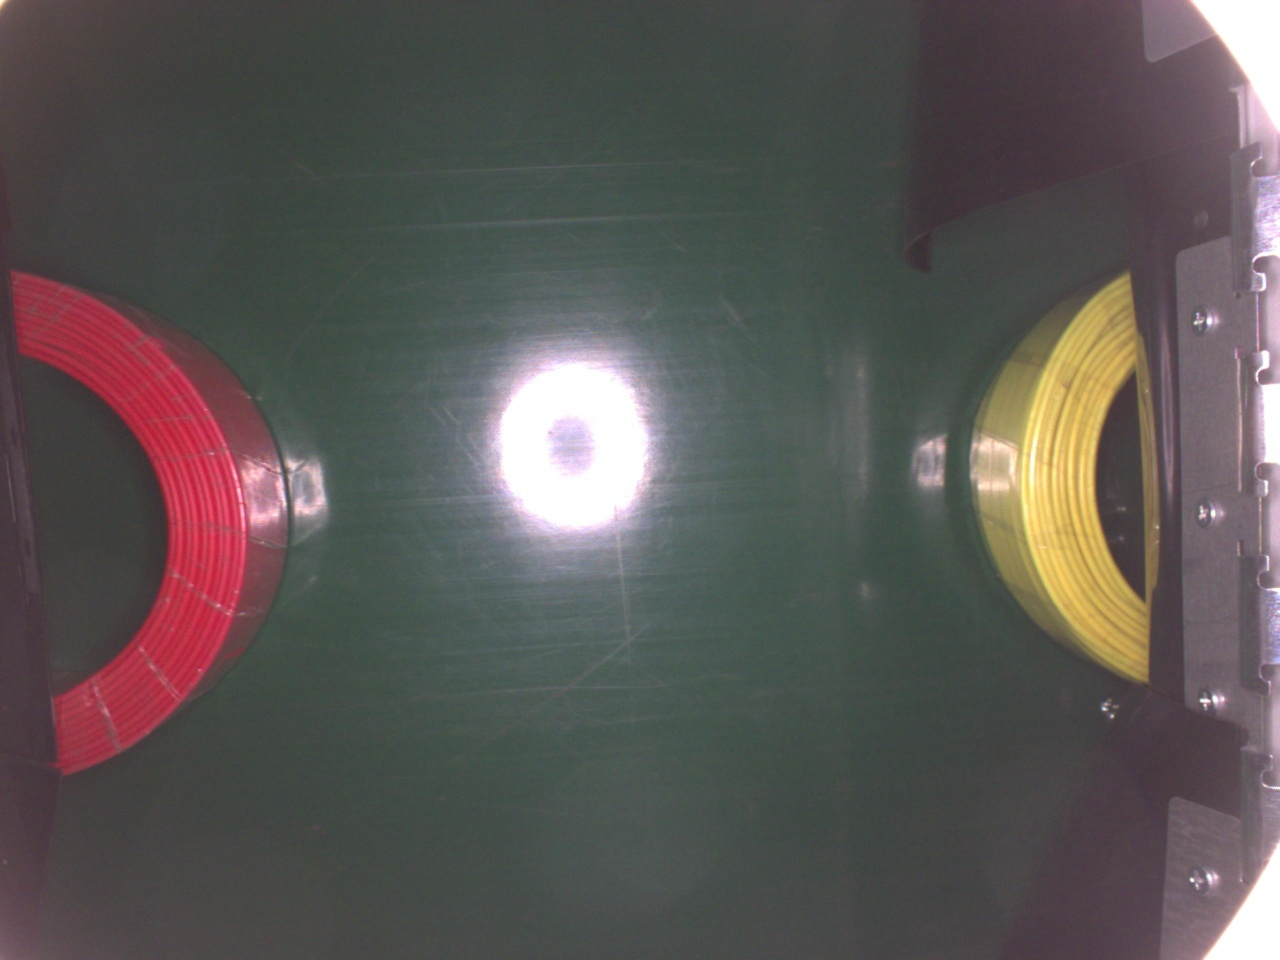red: (9, 261, 288, 781)
yellow: (963, 266, 1157, 682)
